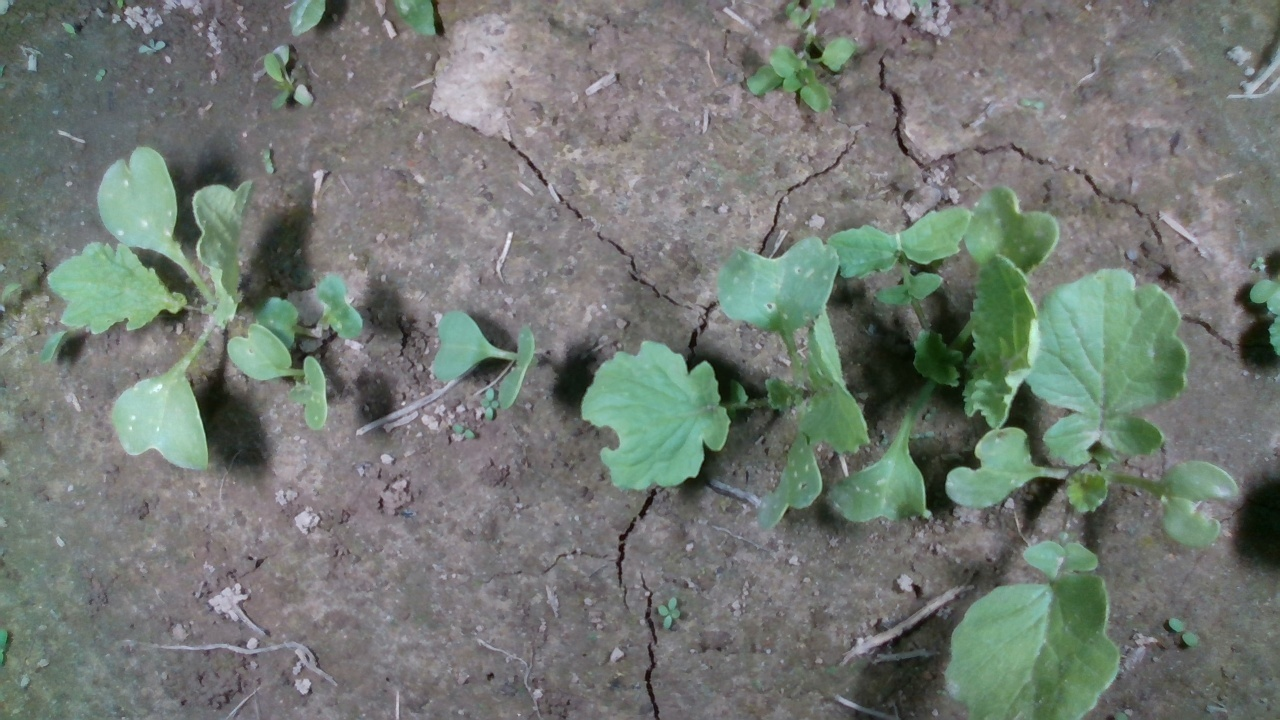weed: (1167, 616, 1201, 649), (654, 595, 681, 630), (136, 35, 166, 55), (451, 420, 476, 440), (94, 66, 107, 84)
